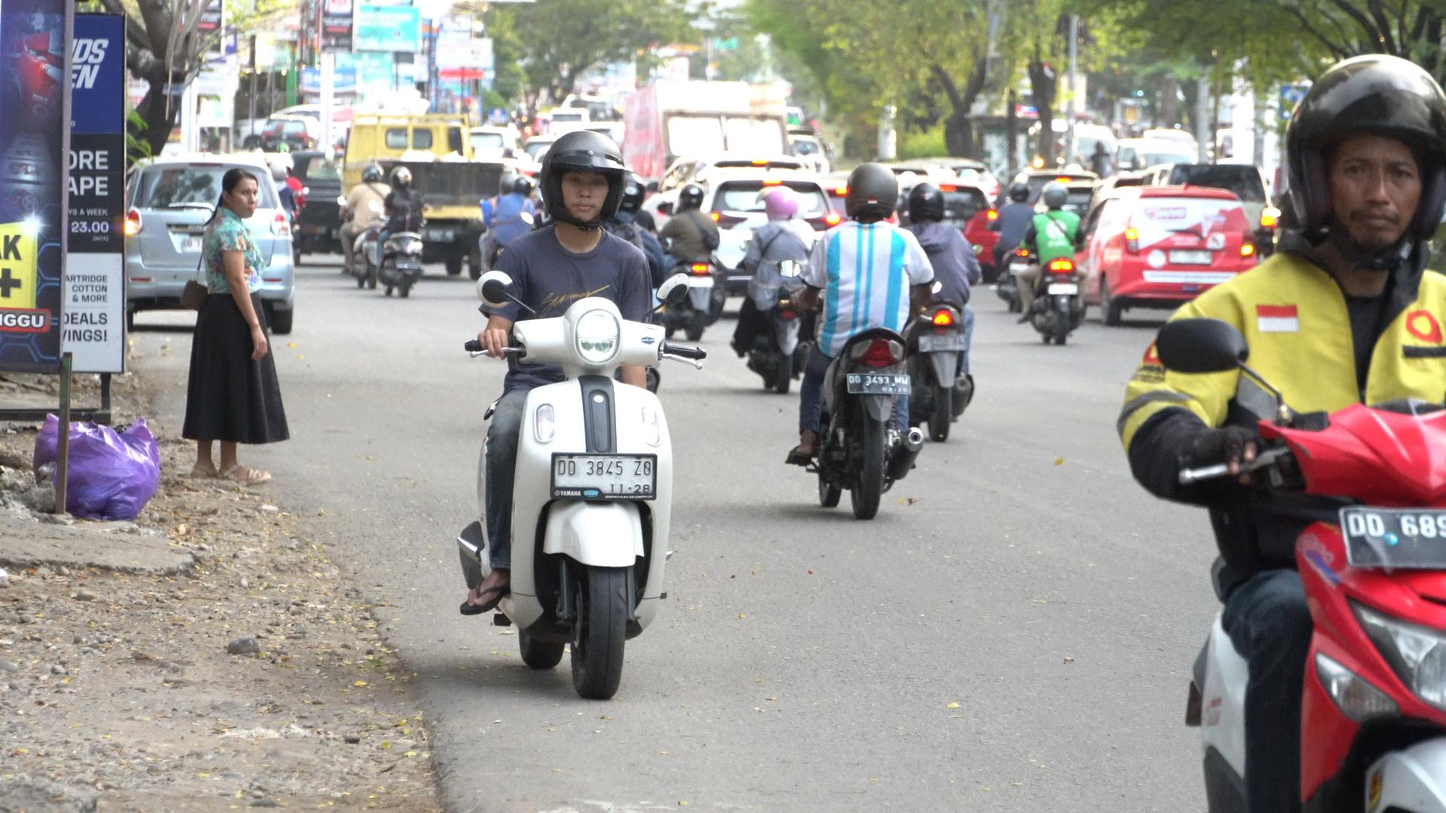number-plate: (540, 445, 659, 506)
